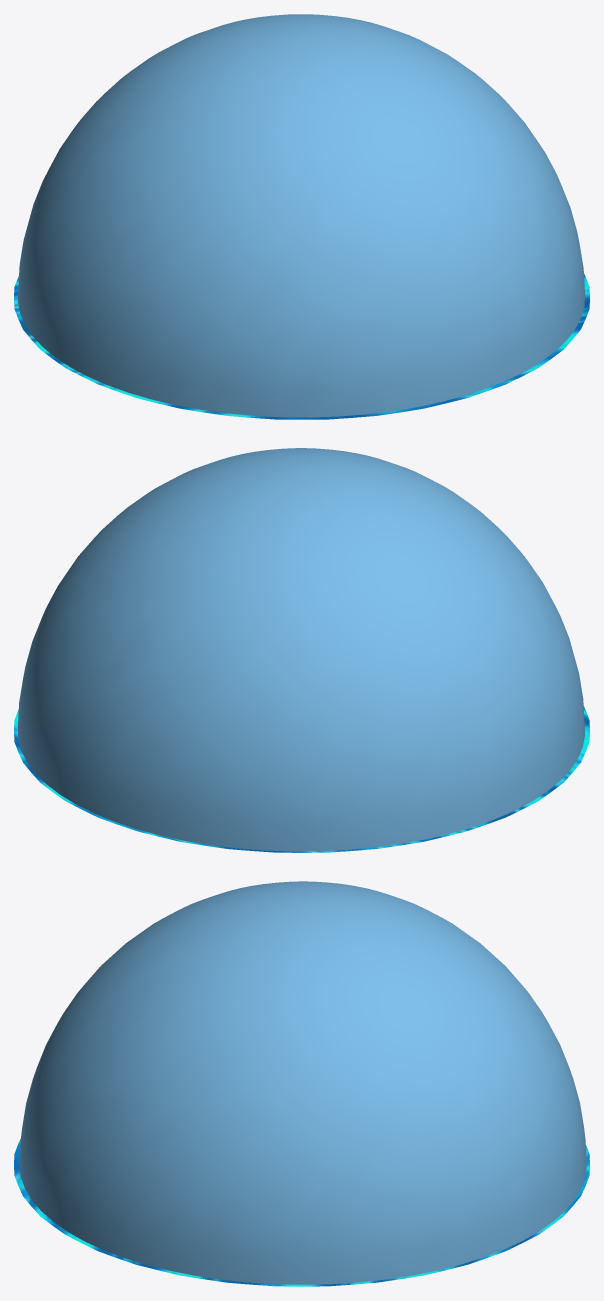
File: island.glb
3 renders of one model, top to bottom at view 1: azimuth 30°, elevation 25°; view 2: azimuth 150°, elevation 25°; view 3: azimuth 270°, elevation 25°, orthographic.
Visible parts, largest first — view 1: Object_4, Object_5; view 2: Object_4, Object_5; view 3: Object_4, Object_5.
Part boxes in pixels (x1,y1,x2,y2): Object_4: (17, 14, 584, 417); Object_5: (14, 274, 589, 419); Object_4: (17, 448, 584, 851); Object_5: (14, 706, 589, 852); Object_4: (19, 881, 586, 1284); Object_5: (14, 1139, 589, 1286).
Bounding box in the file's own units: 875 × 432 × 875.
Materials: 32 (31 with a texture image).
